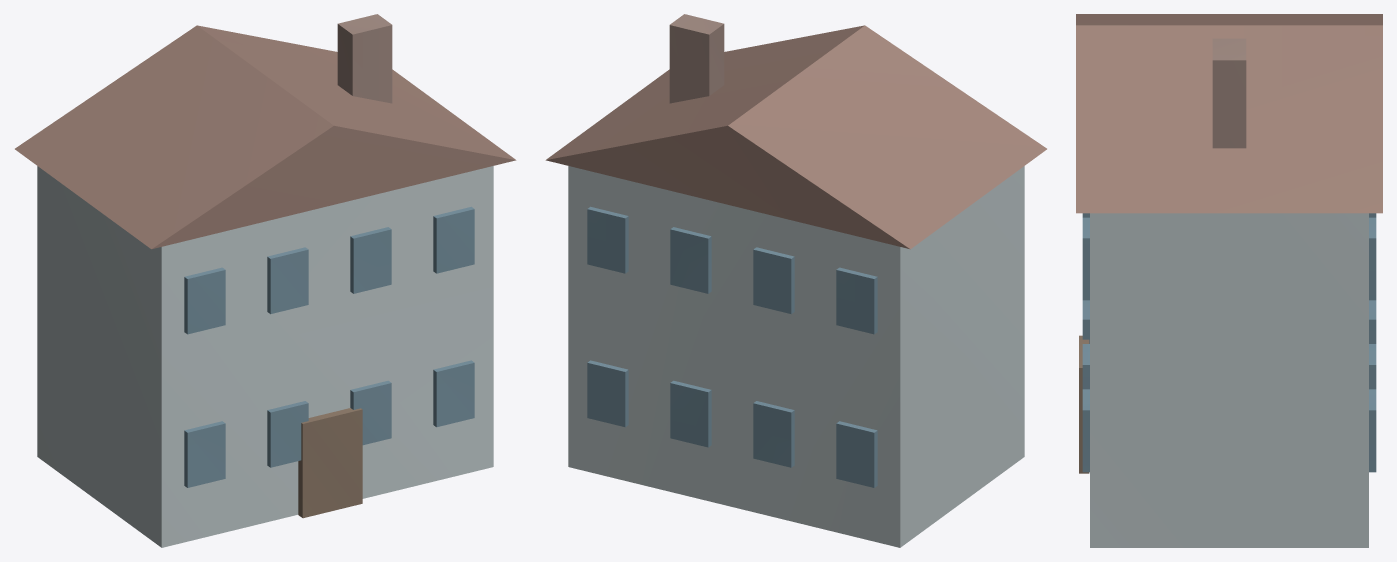
Rendered from chalet-01.glb.
3 renders of one model, left to right at view 1: azimuth 30°, elevation 25°; view 2: azimuth 150°, elevation 25°; view 3: azimuth 270°, elevation 25°, orthographic. The views are drawn at different scales.
Parts seen in each view (by area): view 1: world; view 2: world; view 3: world.
Boxes of the visible parts, x1,y1,x2,y2 form: world: [15, 14, 516, 547]; world: [545, 14, 1046, 547]; world: [1076, 14, 1382, 547].
Bounding box in the file's own units: 1.62 × 1.75 × 1.05.
